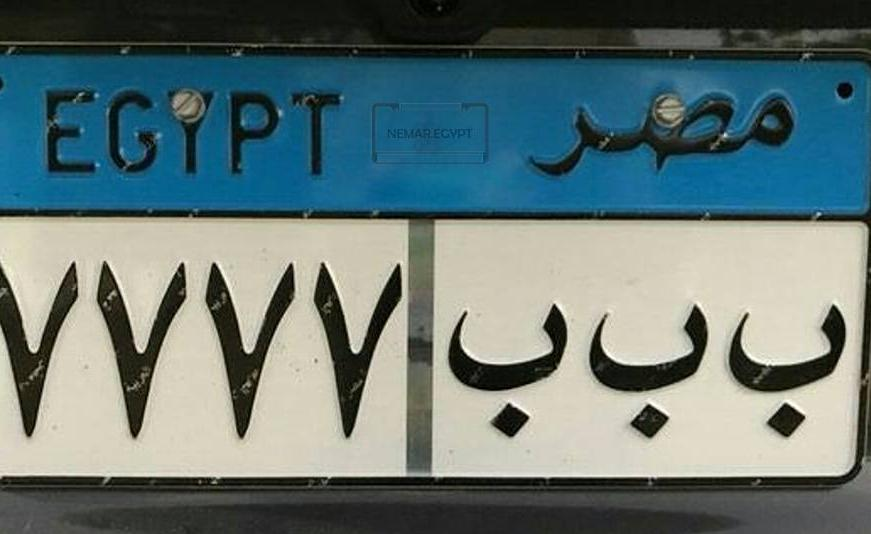7: (194, 257, 305, 445), (309, 262, 415, 444), (99, 258, 188, 440), (0, 255, 85, 428)
baa: (721, 289, 855, 440), (442, 297, 569, 439), (586, 295, 709, 430)
